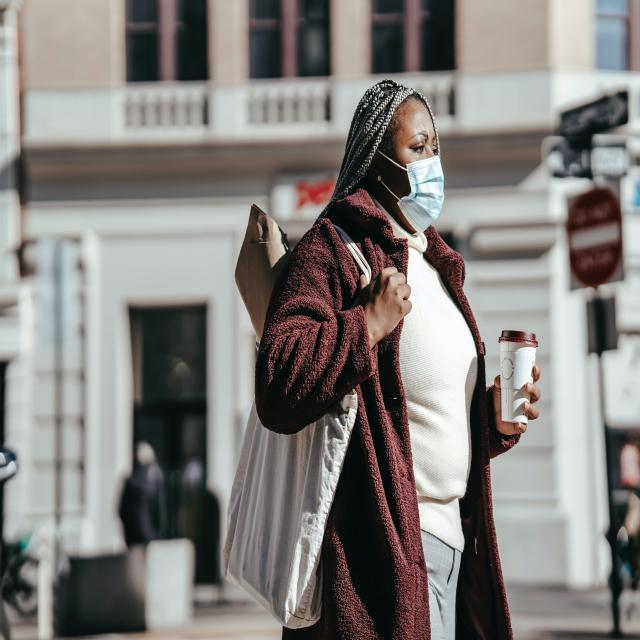cup: (497, 327, 537, 424)
